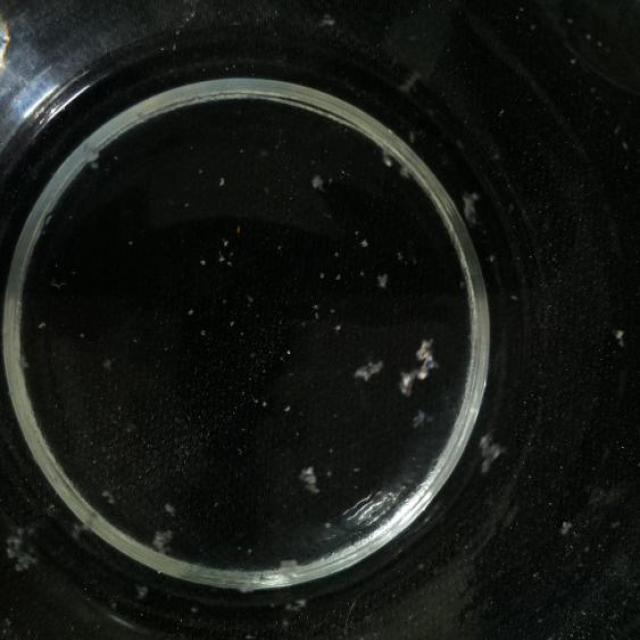fiber: (398, 339, 438, 398), (4, 518, 43, 576), (382, 118, 416, 174), (74, 506, 103, 540), (359, 352, 385, 388), (480, 431, 502, 473), (298, 462, 324, 493), (460, 188, 480, 220), (152, 527, 175, 552), (284, 596, 312, 616), (314, 11, 341, 31), (410, 406, 436, 426), (132, 580, 154, 602), (162, 494, 180, 519), (280, 558, 302, 576), (374, 269, 392, 289), (100, 482, 115, 506), (612, 321, 626, 344), (561, 514, 572, 539), (34, 316, 53, 329), (312, 170, 324, 187), (283, 399, 294, 417), (99, 355, 113, 369), (271, 238, 287, 250), (185, 305, 197, 316), (218, 174, 226, 190), (363, 233, 370, 251), (334, 320, 344, 332)
